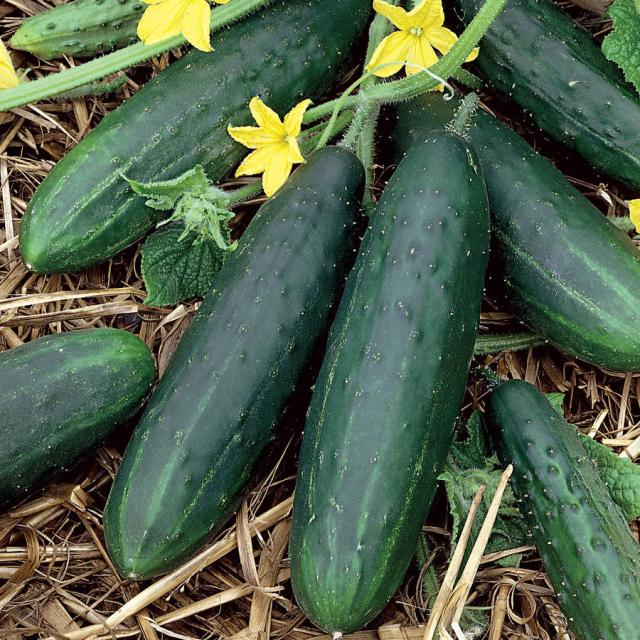Cucumber: (105, 98, 382, 620), (277, 96, 503, 638), (14, 0, 375, 290), (393, 82, 640, 377), (486, 377, 638, 640), (455, 0, 640, 180), (0, 299, 162, 501)
